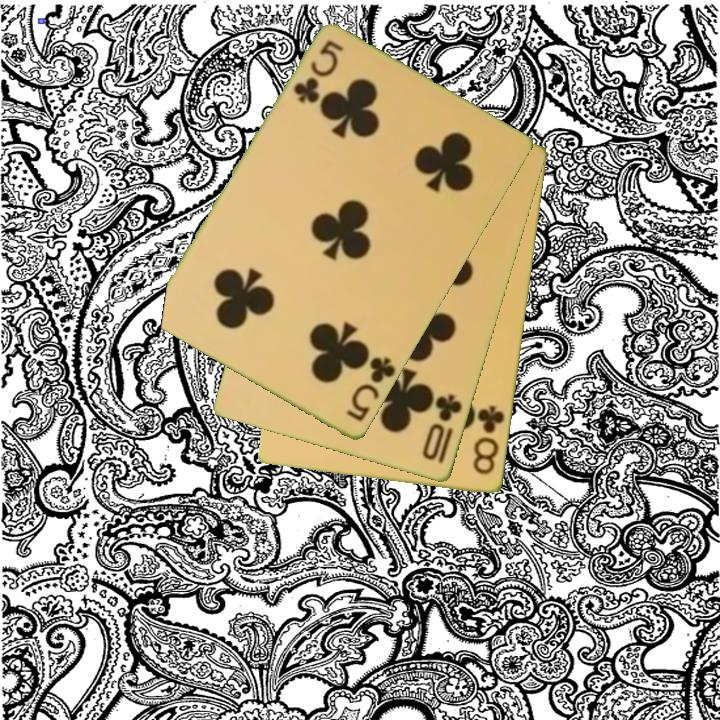10c: (419, 391, 466, 467)
5c: (343, 353, 399, 425), (290, 37, 347, 107)
8c: (470, 402, 508, 479)
